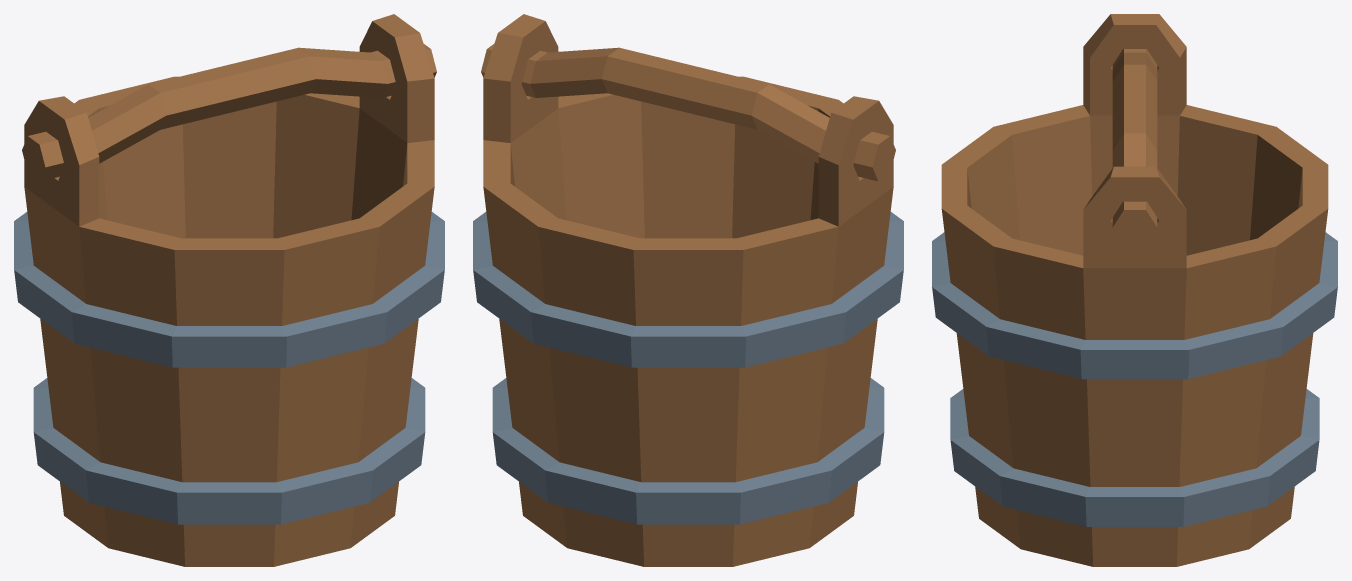
The model's file is bucket.fbx.
The picture shows the model from 3 angles, left to right: view 1: azimuth 30°, elevation 25°; view 2: azimuth 150°, elevation 25°; view 3: azimuth 270°, elevation 25°; orthographic projection. The views are drawn at different scales.
Parts seen in each view (by area): view 1: Bucket; view 2: Bucket; view 3: Bucket.
Boxes of the visible parts, left/top/right/bottom form: Bucket: left=14, top=14, right=444, bottom=566; Bucket: left=473, top=14, right=903, bottom=566; Bucket: left=932, top=14, right=1337, bottom=566.
Bounding box in the file's own units: 31.93 × 33.52 × 30.41.
